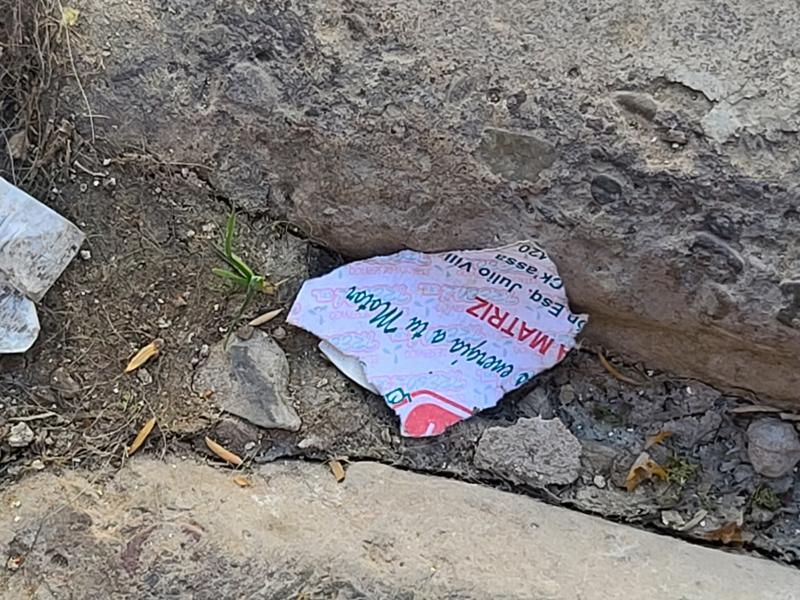papel: (284, 244, 588, 440)
